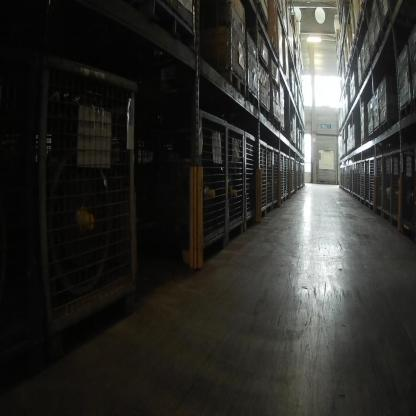pallet: (141, 3, 197, 56), (218, 63, 247, 97), (364, 122, 398, 146), (253, 94, 273, 127), (269, 118, 287, 138), (395, 99, 411, 120), (247, 85, 258, 110), (408, 88, 416, 117), (270, 35, 280, 58), (374, 126, 379, 140)
stillage: (33, 48, 147, 353), (151, 93, 228, 257), (223, 119, 245, 240), (243, 120, 259, 228), (401, 146, 416, 237), (390, 138, 404, 230), (271, 138, 281, 209), (258, 132, 266, 219), (383, 146, 392, 223), (374, 151, 384, 219), (266, 137, 273, 215), (369, 149, 377, 217), (276, 152, 284, 210), (364, 156, 371, 207), (360, 158, 366, 203), (350, 164, 356, 201), (286, 150, 290, 203), (354, 164, 360, 199), (357, 160, 361, 203)
